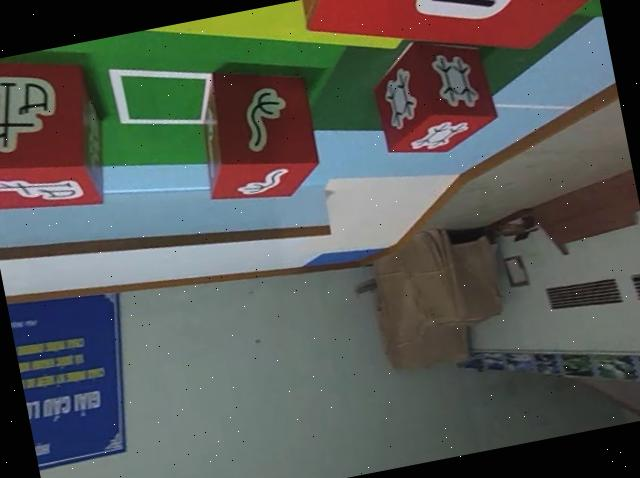R2 Real: (300, 0, 608, 97), (182, 51, 336, 215), (0, 40, 119, 230), (367, 32, 507, 170)
